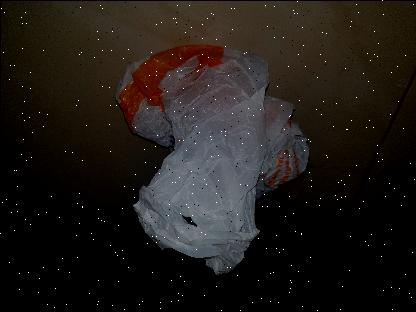Others: (112, 42, 310, 276)
